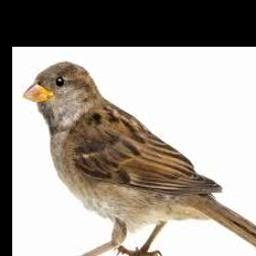Sparrow: (23, 62, 256, 256)
